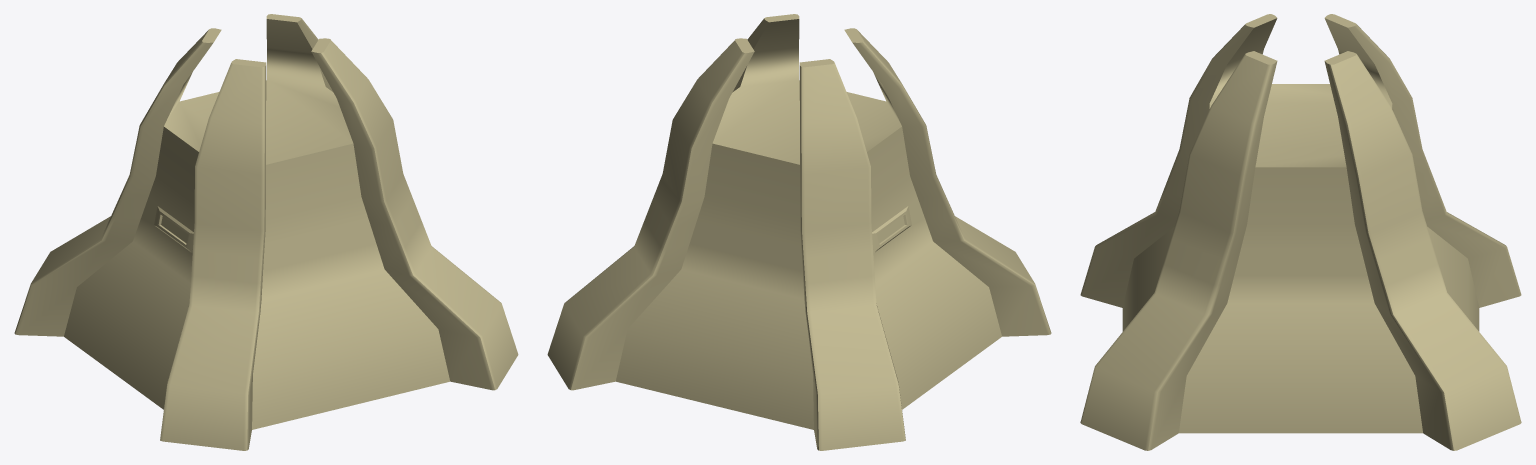
Rendered from Base_Puzzle_Cubo.fbx.
The picture shows the model from 3 angles, left to right: view 1: azimuth 30°, elevation 25°; view 2: azimuth 150°, elevation 25°; view 3: azimuth 270°, elevation 25°; orthographic projection. The views are drawn at different scales.
Parts seen in each view (by area): view 1: Base_Cubo_G; view 2: Base_Cubo_G; view 3: Base_Cubo_G.
Boxes of the visible parts, x1,y1,x2,y2 form: Base_Cubo_G: (14, 14, 518, 450); Base_Cubo_G: (547, 14, 1051, 450); Base_Cubo_G: (1080, 14, 1521, 450).
Size of the model in its own units: 287 by 233 by 291.
